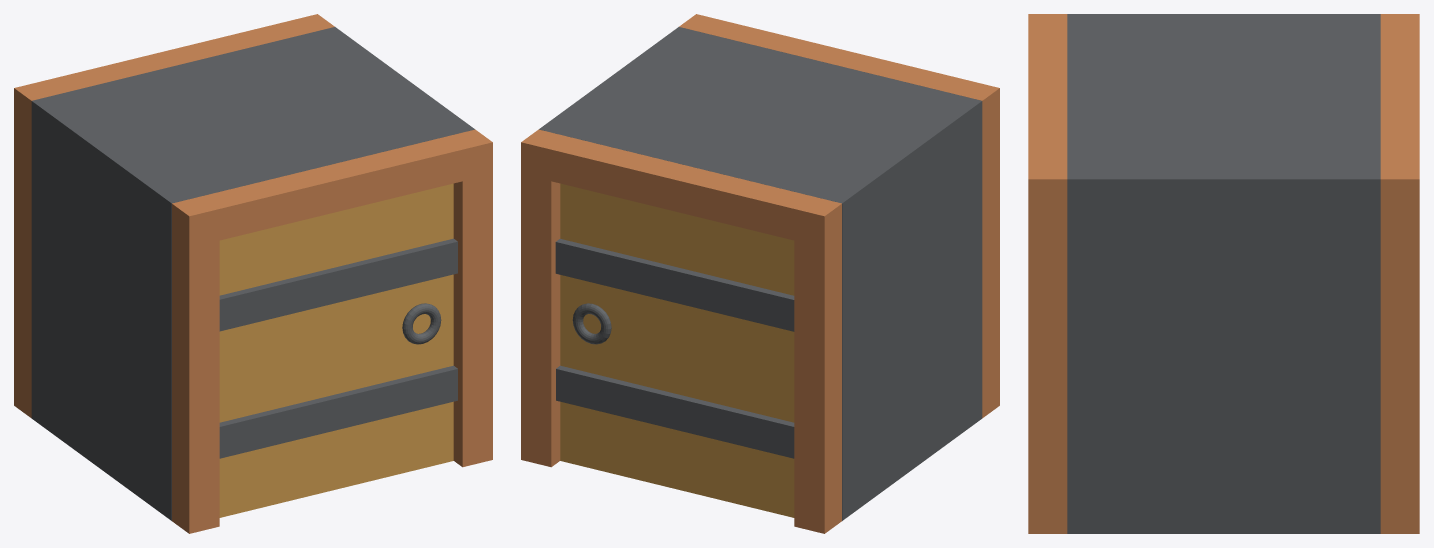
File: puzzle-room-door.glb
3 views of the same model, side by side, from view 1: azimuth 30°, elevation 25°; view 2: azimuth 150°, elevation 25°; view 3: azimuth 270°, elevation 25° (orthographic). The views are drawn at different scales.
Visible parts, largest first — view 1: Mesh_Mesh_head_geo.001_lambert2SG.001; view 2: Mesh_Mesh_head_geo.001_lambert2SG.001; view 3: Mesh_Mesh_head_geo.001_lambert2SG.001.
Part boxes in pixels (left/top/right/bottom): Mesh_Mesh_head_geo.001_lambert2SG.001: left=14, top=14, right=492, bottom=533; Mesh_Mesh_head_geo.001_lambert2SG.001: left=521, top=14, right=999, bottom=533; Mesh_Mesh_head_geo.001_lambert2SG.001: left=1028, top=14, right=1419, bottom=533.
Size of the model in its own units: 10 by 10 by 10.
